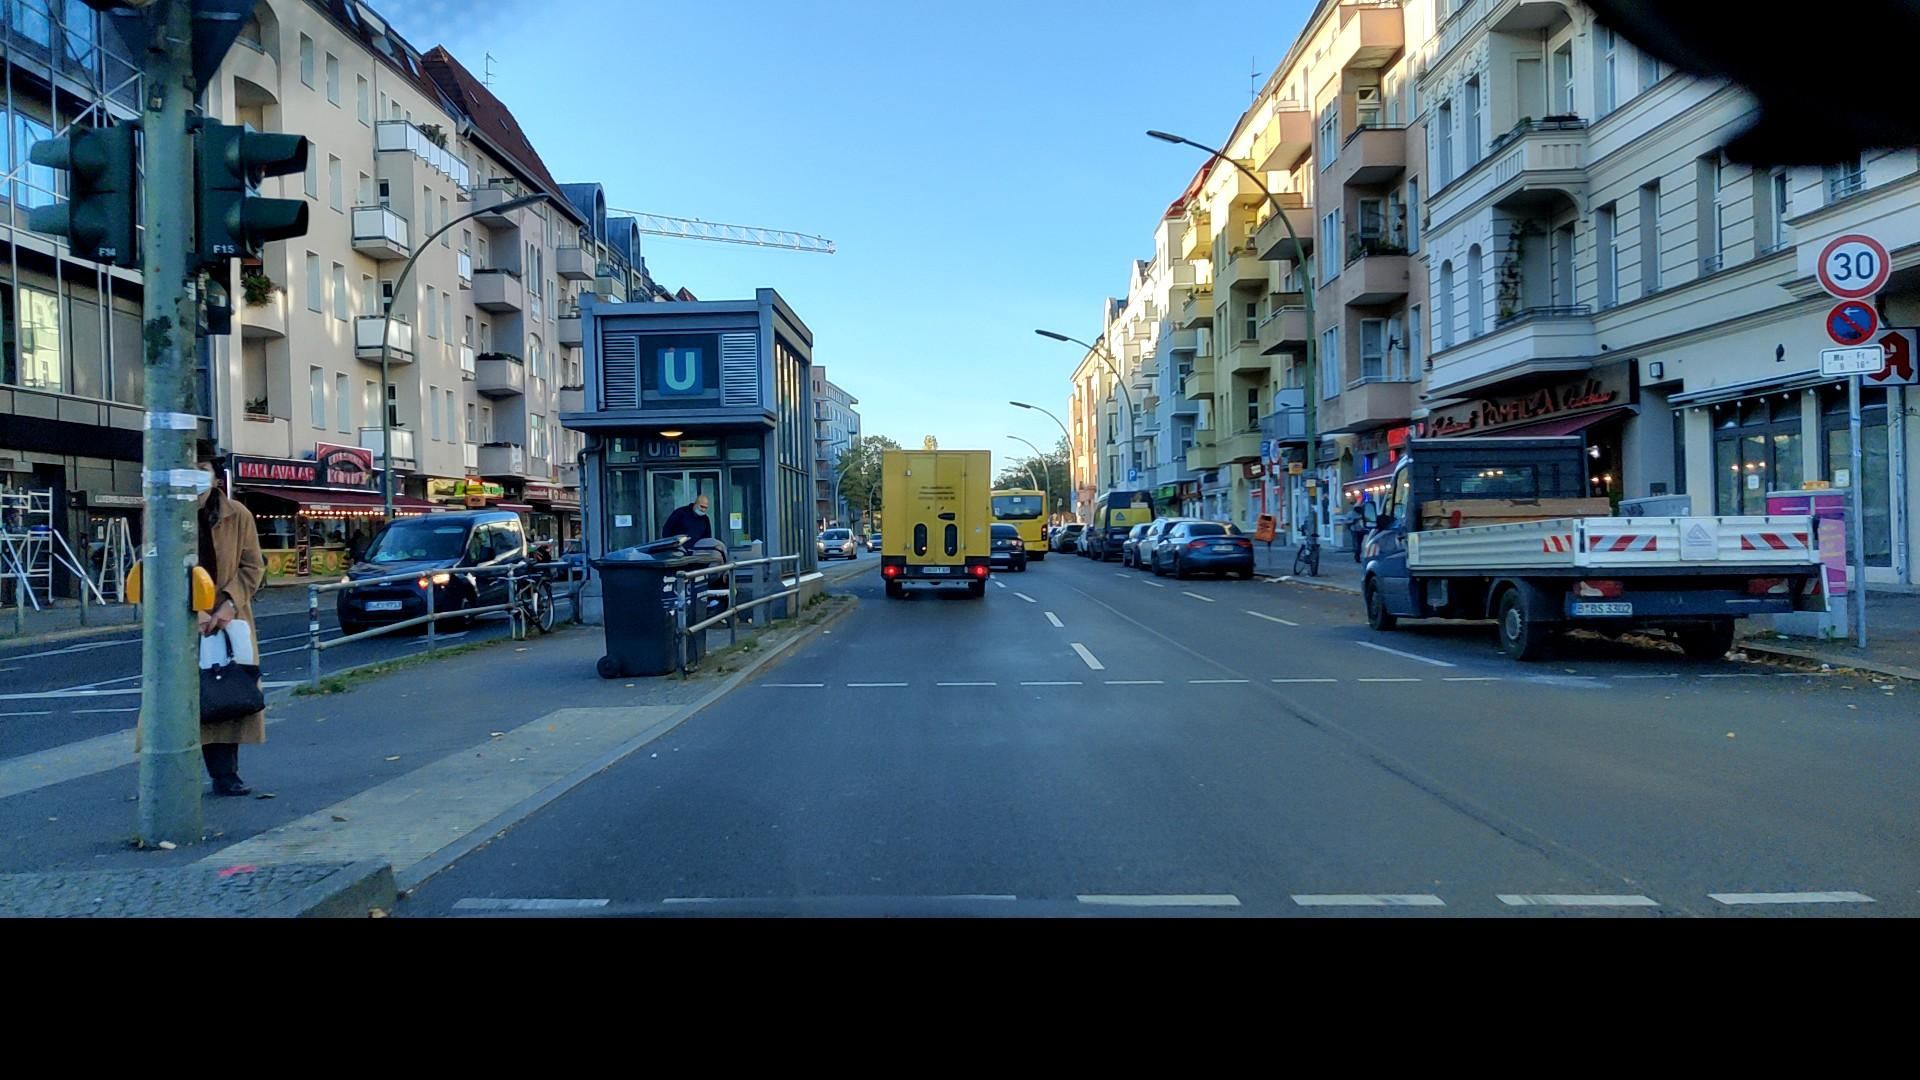Human face: (196, 454, 216, 502), (692, 494, 708, 516)
Vehicle registration plate: (1570, 602, 1632, 617), (364, 600, 400, 611), (920, 566, 951, 574), (1210, 544, 1233, 551)
